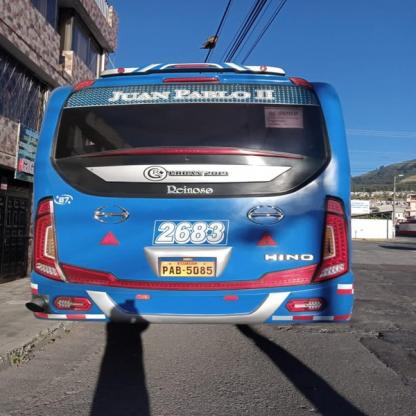Placa: (156, 256, 216, 279)
